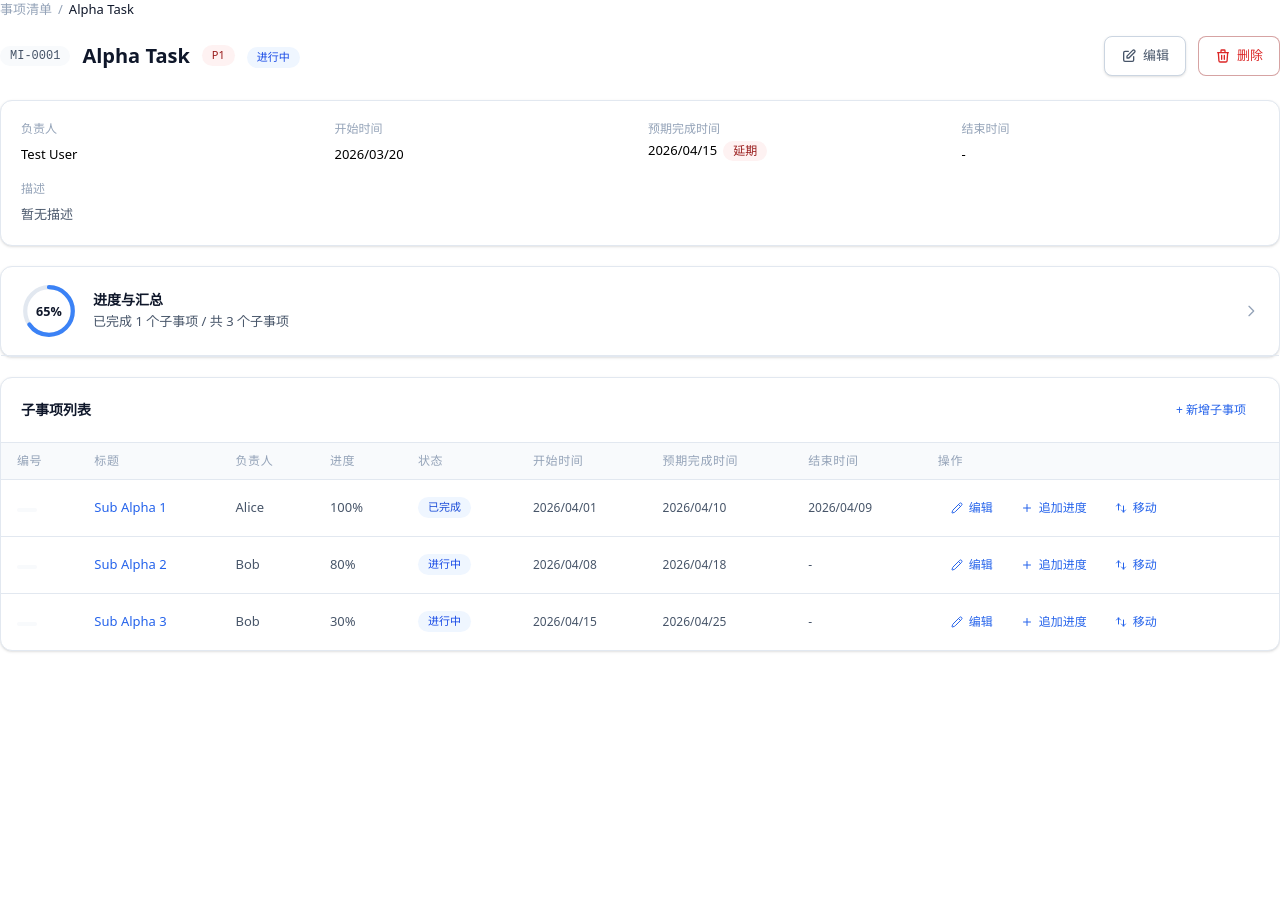
it: MainItemDetailPage › opens confirmation dialog with sub-item count on delete click
Expected: the heading "Alpha Task" is shown, [82,42,190,70]
// Find the delete button in the title bar (has SVG + text)
Click the button "删除".
click(1239, 56)  # box [1198,36,1279,76]
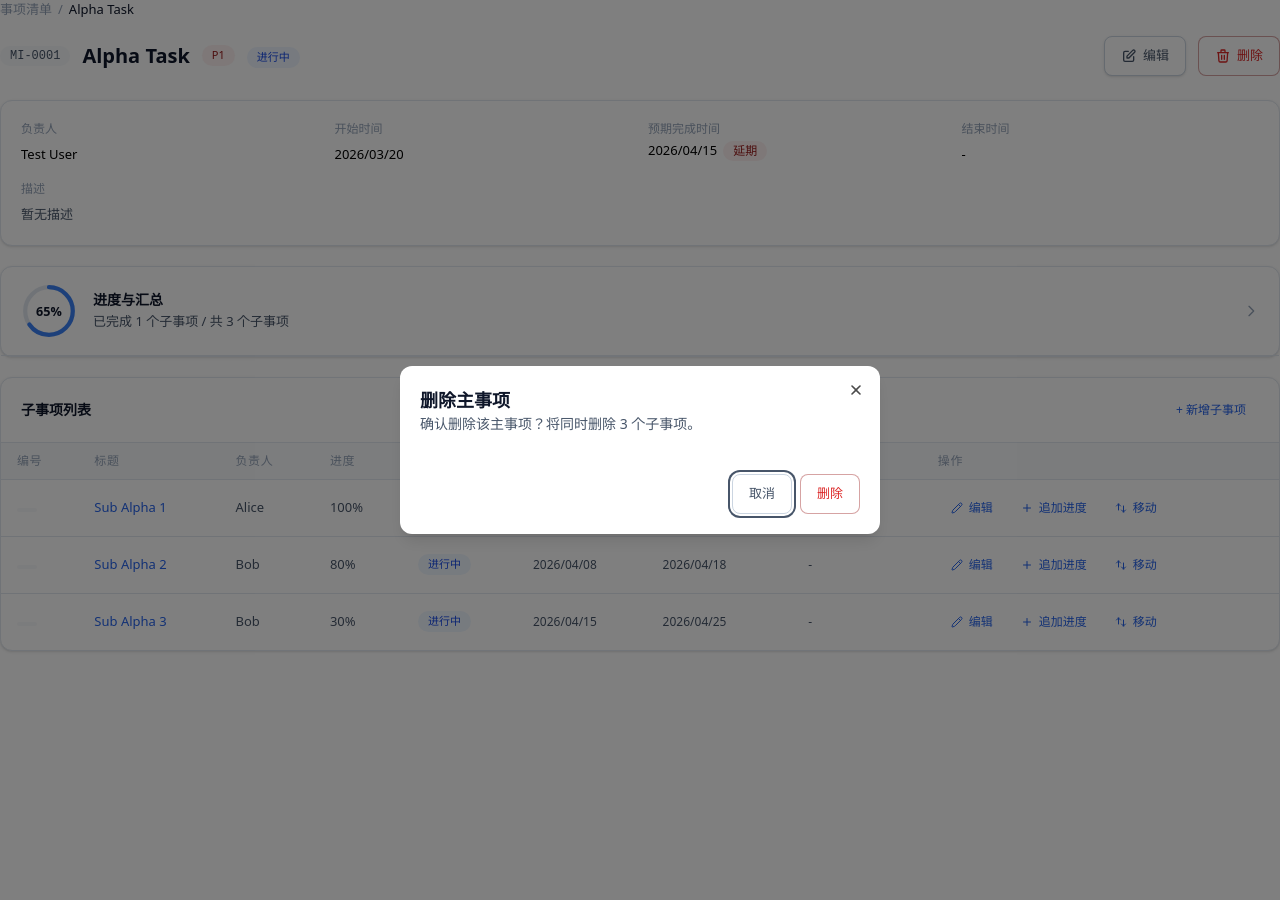
Expected: the heading "删除主事项" is shown, [420,388,510,412]
Expected: the text "确认删除该主事项？将同时删除 3 个子事项。" is shown, [420,414,701,433]
